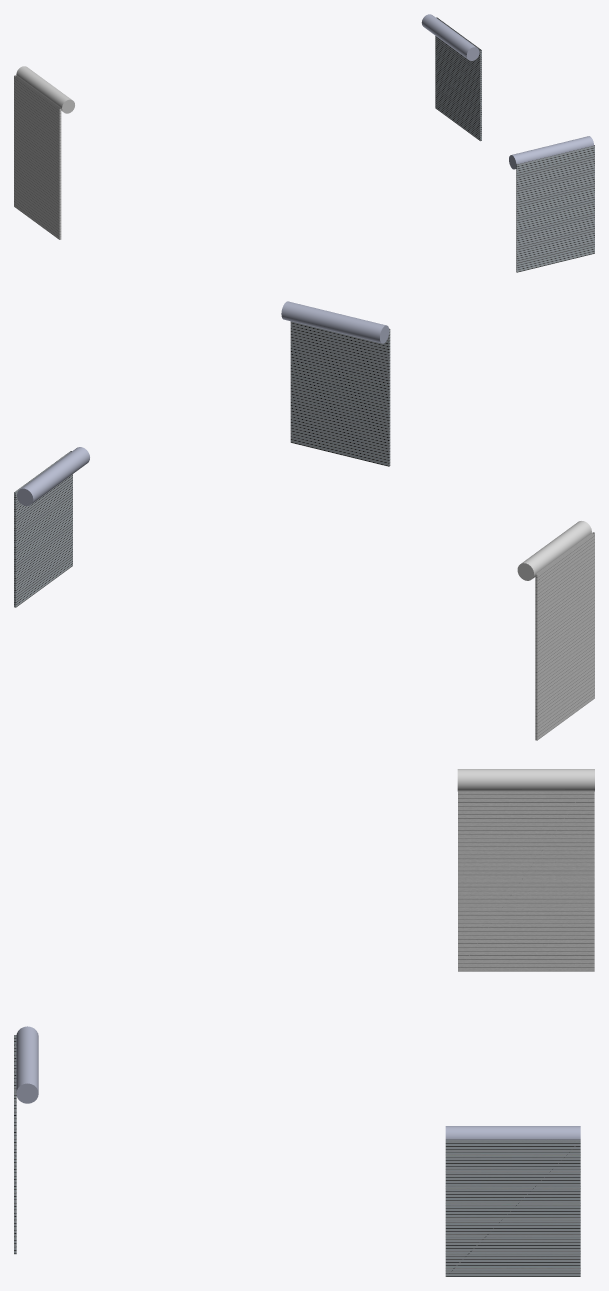
File: DockDoors.fbx
3 renders of one model, top to bottom at view 1: azimuth 30°, elevation 25°; view 2: azimuth 150°, elevation 25°; view 3: azimuth 270°, elevation 25°, orthographic. The views are drawn at different scales.
Visible parts, largest first — view 1: dockDoor1, dockDoor2, dockDoor, DockDoorRoller, DockDoorRoller1, DockDoorRoller2; view 2: dockDoor1, dockDoor2, dockDoor, DockDoorRoller1, DockDoorRoller, DockDoorRoller2; view 3: dockDoor2, dockDoor, DockDoorRoller2, DockDoorRoller, DockDoorRoller1, dockDoor1.
Boxes of the visible parts, x1=… form: dockDoor1: x1=516, y1=145, x2=594, y2=272; dockDoor2: x1=14, y1=75, x2=61, y2=239; dockDoor: x1=435, y1=17, x2=481, y2=141; DockDoorRoller: x1=421, y1=14, x2=479, y2=60; DockDoorRoller1: x1=509, y1=136, x2=593, y2=169; DockDoorRoller2: x1=16, y1=66, x2=74, y2=113; dockDoor1: x1=290, y1=321, x2=390, y2=466; dockDoor2: x1=535, y1=532, x2=594, y2=740; dockDoor: x1=14, y1=451, x2=72, y2=607; DockDoorRoller1: x1=281, y1=301, x2=389, y2=343; DockDoorRoller: x1=17, y1=447, x2=89, y2=505; DockDoorRoller2: x1=517, y1=521, x2=591, y2=580; dockDoor2: x1=458, y1=791, x2=594, y2=971; dockDoor: x1=445, y1=1139, x2=580, y2=1276; DockDoorRoller2: x1=457, y1=769, x2=594, y2=791; DockDoorRoller: x1=445, y1=1126, x2=580, y2=1139; DockDoorRoller1: x1=16, y1=1026, x2=38, y2=1103; dockDoor1: x1=14, y1=1035, x2=16, y2=1254.
Bounding box in the file's own units: 1622 × 511 × 1300.
Materials: 1 (1 with a texture image).
